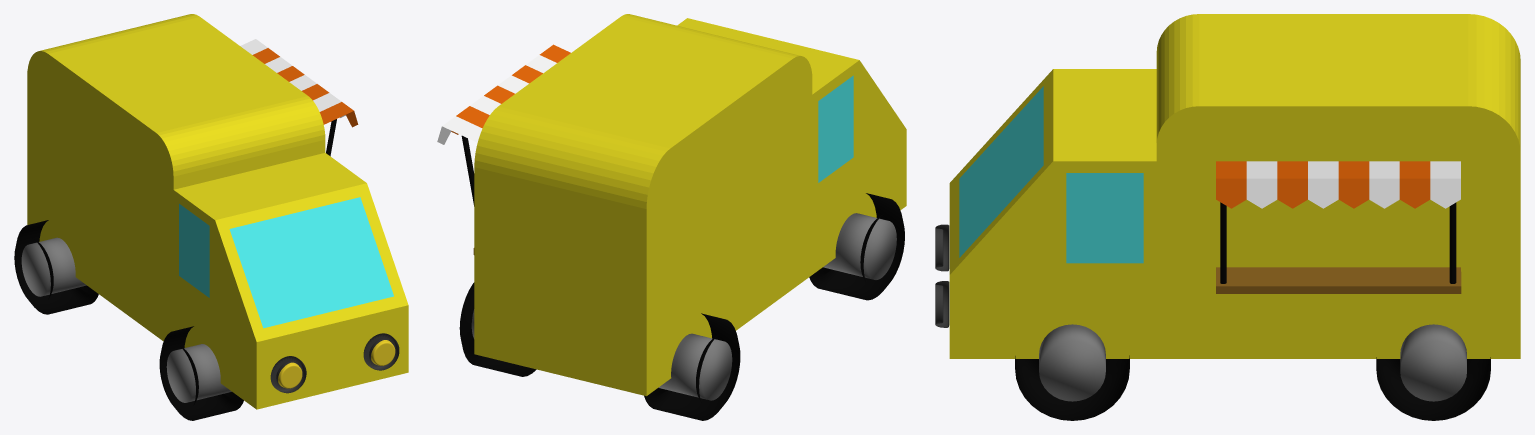
File: KitchenCar.fbx
3 views of the same model, side by side, from view 1: azimuth 30°, elevation 25°; view 2: azimuth 150°, elevation 25°; view 3: azimuth 270°, elevation 25° (orthographic). The views are drawn at different scales.
Parts seen in each view (by area): view 1: 立方体, 立方体.007, 立方体.004, 立方体.009, 立方体.011, 立方体.006, 立方体.008, 円.001, 円.003, 円.006, 円.005, 立方体.002 (+3 smaller); view 2: 立方体.007, 立方体, 立方体.011, 円.006, 円.001, 円.003, 立方体.005, 円.005, 立方体.002, 立方体.008; view 3: 立方体, 立方体.007, 立方体.010, 立方体.013, 立方体.002, 立方体.008, 立方体.003, 立方体.004, 立方体.001, 円.003, 円.001, 円.006 (+6 smaller).
Boxes of the visible parts, box(x1,y1,x2,y2) form: 立方体: box(100, 55, 325, 341); 立方体.007: box(27, 14, 251, 294); 立方体.004: box(229, 197, 393, 328); 立方体.009: box(256, 305, 408, 409); 立方体.011: box(173, 190, 256, 409); 立方体.006: box(215, 183, 408, 341); 立方体.008: box(174, 153, 366, 220); 円.001: box(21, 237, 86, 296); 円.003: box(166, 344, 231, 402); 円.006: box(14, 220, 98, 314); 円.005: box(159, 326, 243, 420); 立方体.002: box(240, 39, 358, 127); 立方体.007: box(474, 63, 729, 396); 立方体: box(557, 14, 812, 330); 立方体.011: box(812, 60, 906, 274); 円.006: box(459, 282, 740, 420); 円.001: box(471, 309, 732, 400); 円.003: box(823, 213, 896, 279); 立方体.005: box(818, 75, 853, 182); 円.005: box(809, 193, 904, 300); 立方体.002: box(437, 44, 570, 144); 立方体.008: box(677, 18, 859, 94); 立方体: box(1156, 14, 1338, 358); 立方体.007: box(1338, 14, 1520, 358); 立方体.010: box(949, 161, 1156, 358); 立方体.013: box(1216, 199, 1460, 267); 立方体.002: box(1216, 161, 1460, 208); 立方体.008: box(1053, 69, 1156, 161); 立方体.003: box(1066, 173, 1143, 263); 立方体.004: box(959, 86, 1043, 257); 立方体.001: box(1216, 267, 1461, 293); 円.003: box(1039, 324, 1105, 401); 円.001: box(1400, 324, 1466, 401); 円.006: box(1376, 357, 1490, 420).
Bounding box in the file's own units: 3.14 × 3.04 × 5.37.
